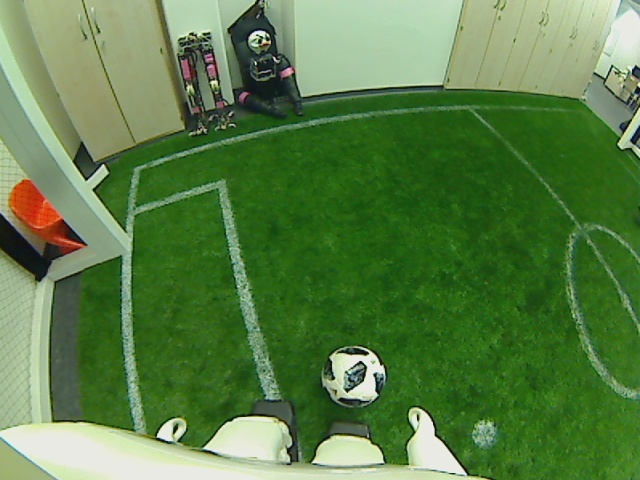ball: (321, 342, 389, 409)
